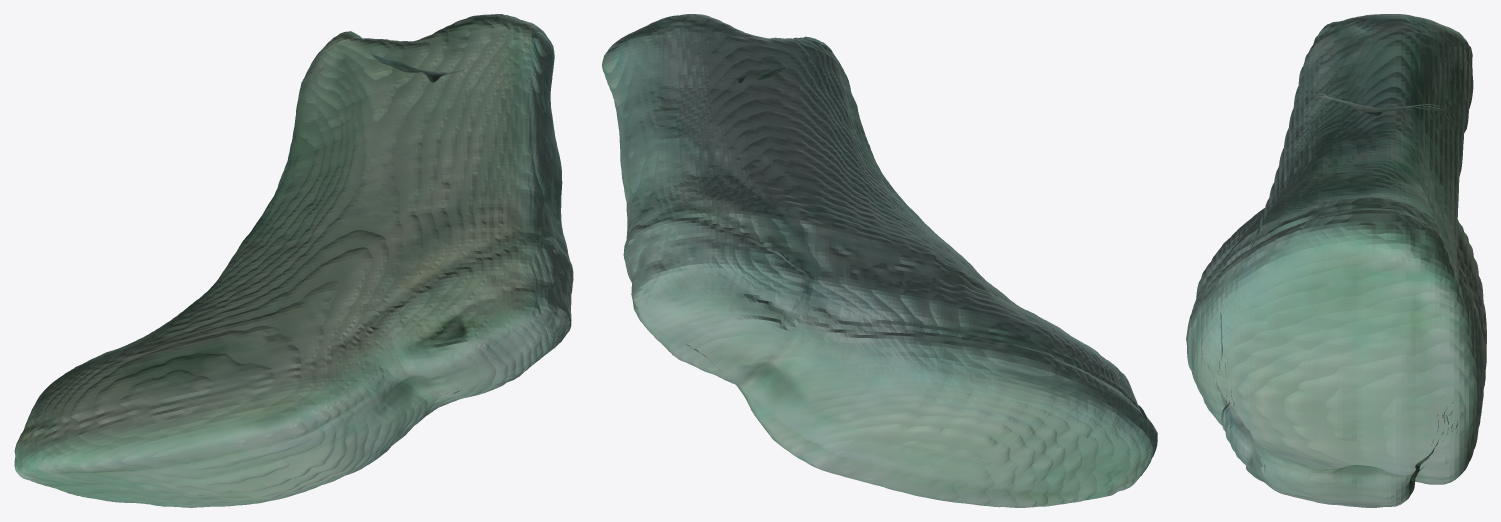
3 views of the same model, side by side, from view 1: azimuth 30°, elevation 25°; view 2: azimuth 150°, elevation 25°; view 3: azimuth 270°, elevation 25° (orthographic). The views are drawn at different scales.
Visible parts, largest first — view 1: geometry_0; view 2: geometry_0; view 3: geometry_0.
Boxes of the visible parts, <box> form: geometry_0: <box>14,14,573,507</box>; geometry_0: <box>602,14,1157,507</box>; geometry_0: <box>1186,14,1486,507</box>.
Size of the model in its own units: 1.6 by 1.12 by 0.6279.
